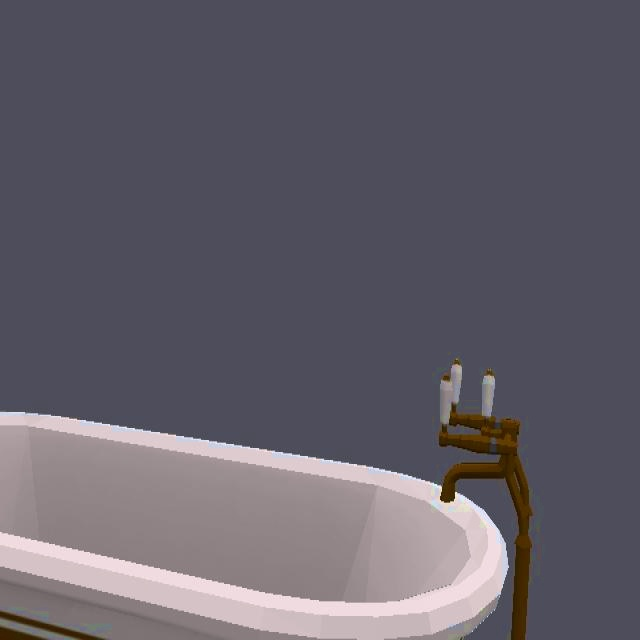bathtube: (0, 365, 531, 638)
